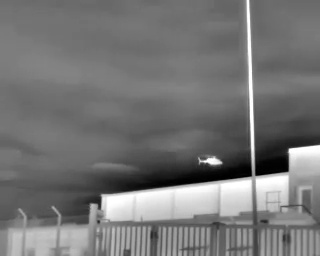HELICOPTER: (192, 149, 228, 171)
